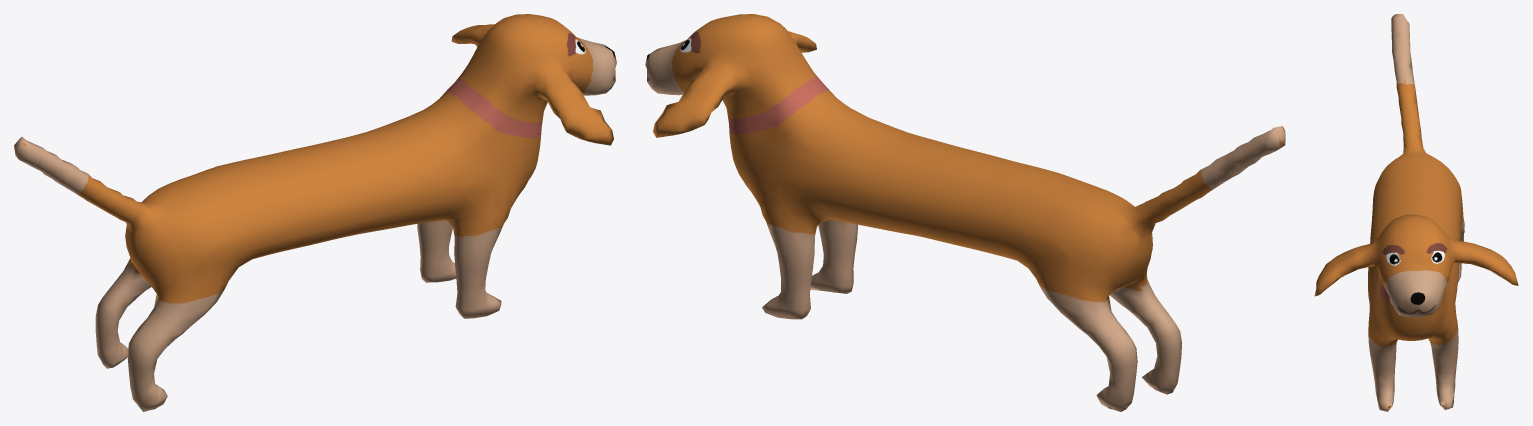
The model's file is dog_aug_9.obj.
3 views of the same model, side by side, from view 1: azimuth 30°, elevation 25°; view 2: azimuth 150°, elevation 25°; view 3: azimuth 270°, elevation 25° (orthographic). The views are drawn at different scales.
Bounding box in the file's own units: 96.63 × 44.54 × 35.57.
Materials: 1 (1 with a texture image).
